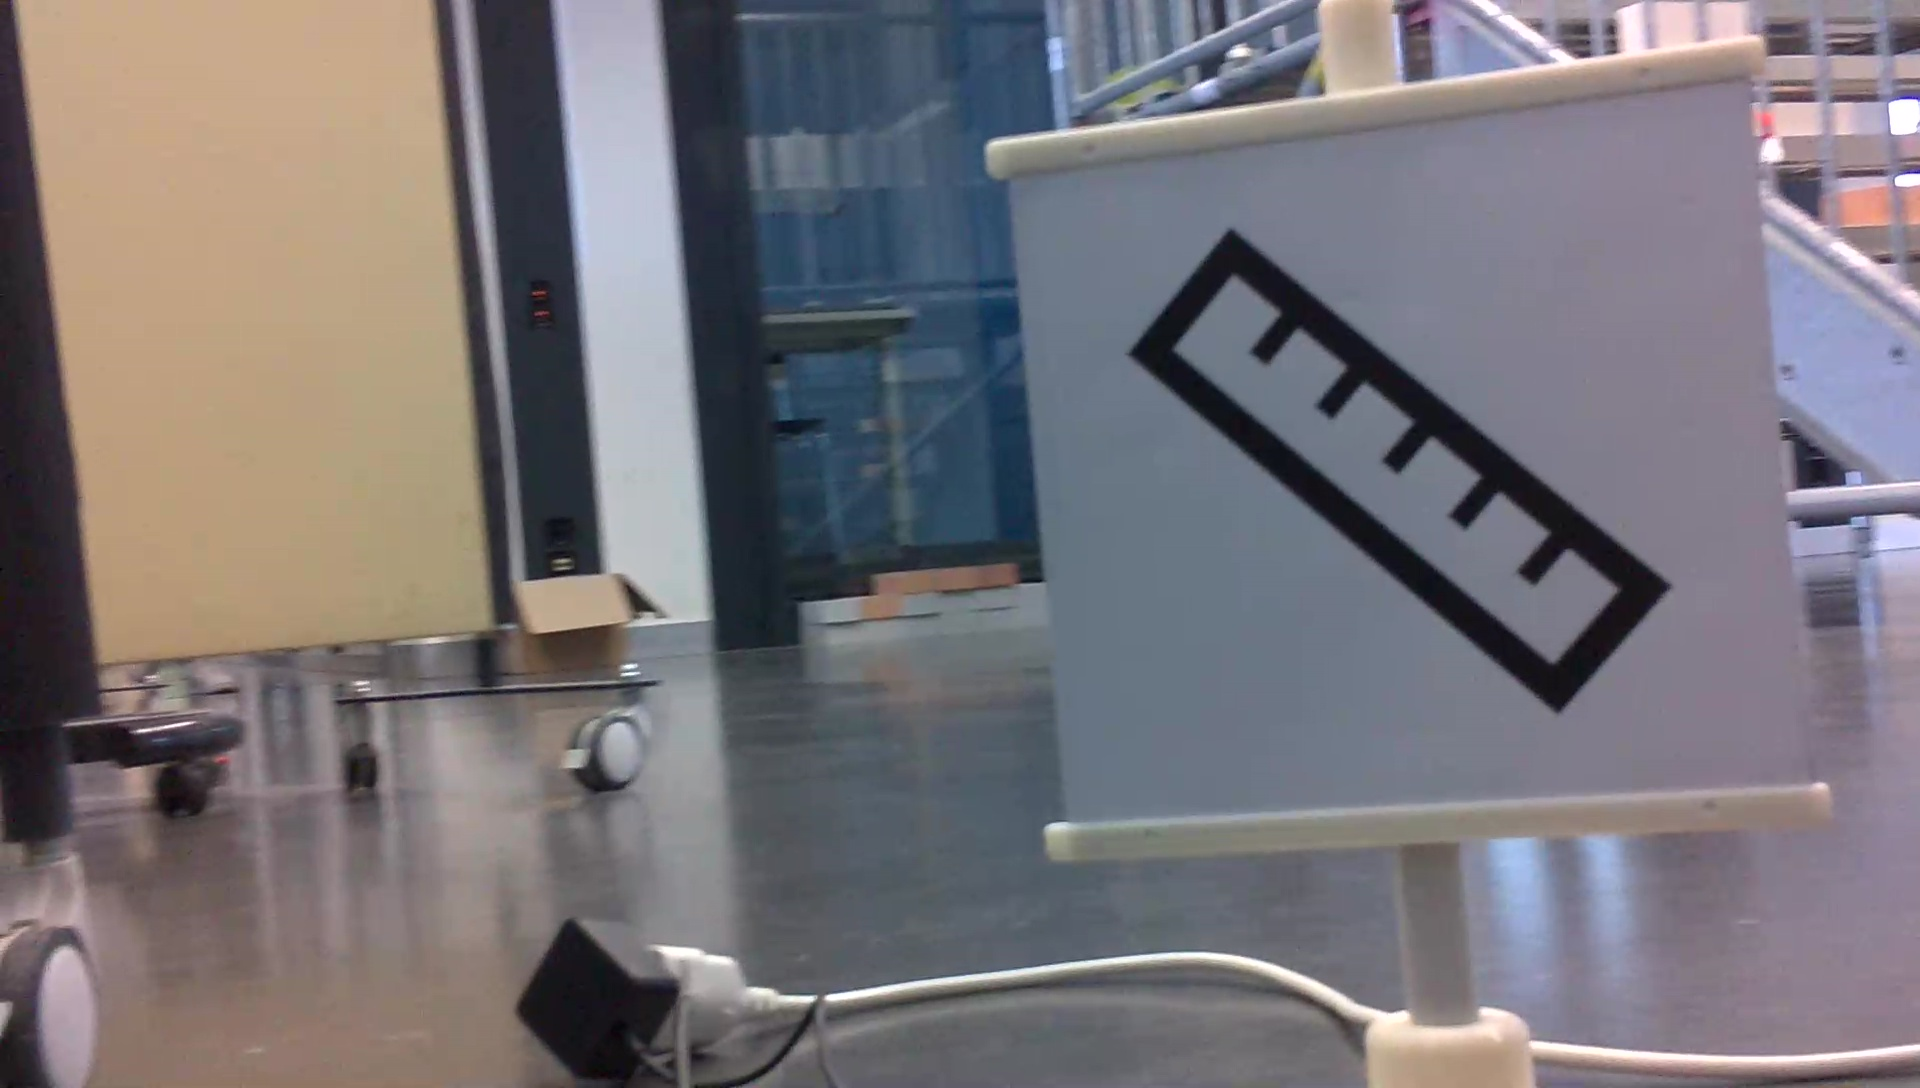ruler: (1116, 223, 1687, 712)
